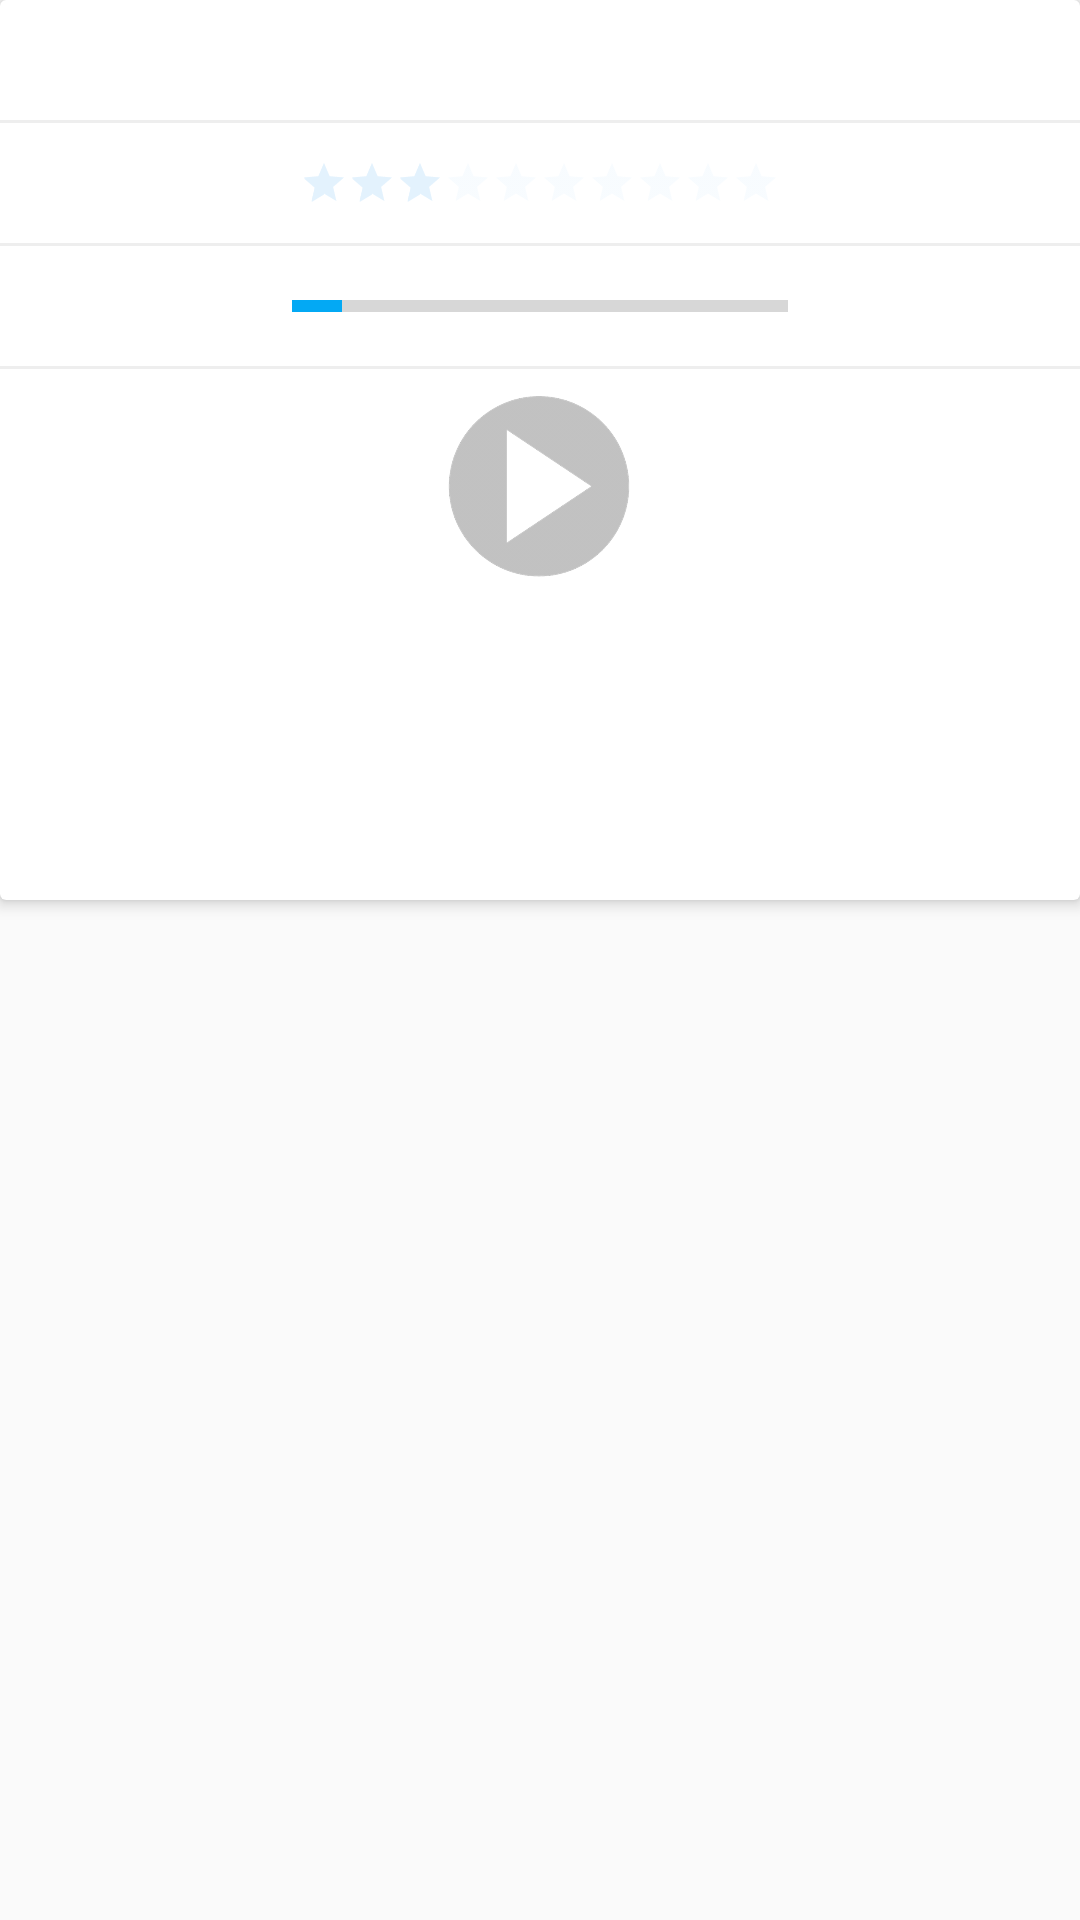

Point at icon controls on the screen. Image size 1080x1920, points as (x=x, y=y).
play: (x=539, y=486)
